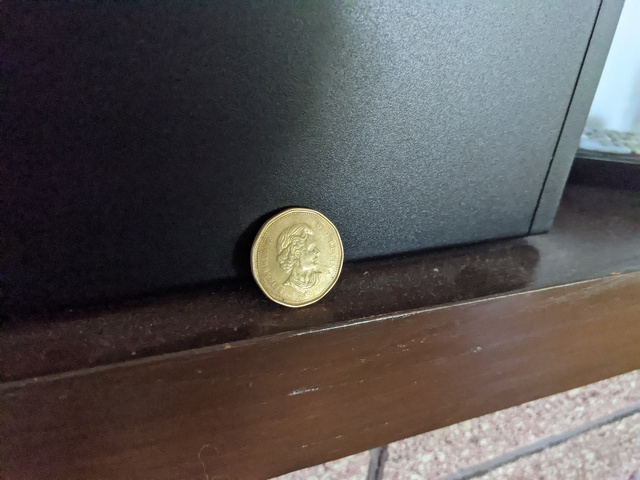loonie: (245, 203, 345, 308)
